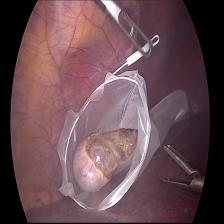Grasper: (149, 133, 205, 204), (109, 5, 156, 58)
Specimen Bag: (51, 29, 191, 218)
